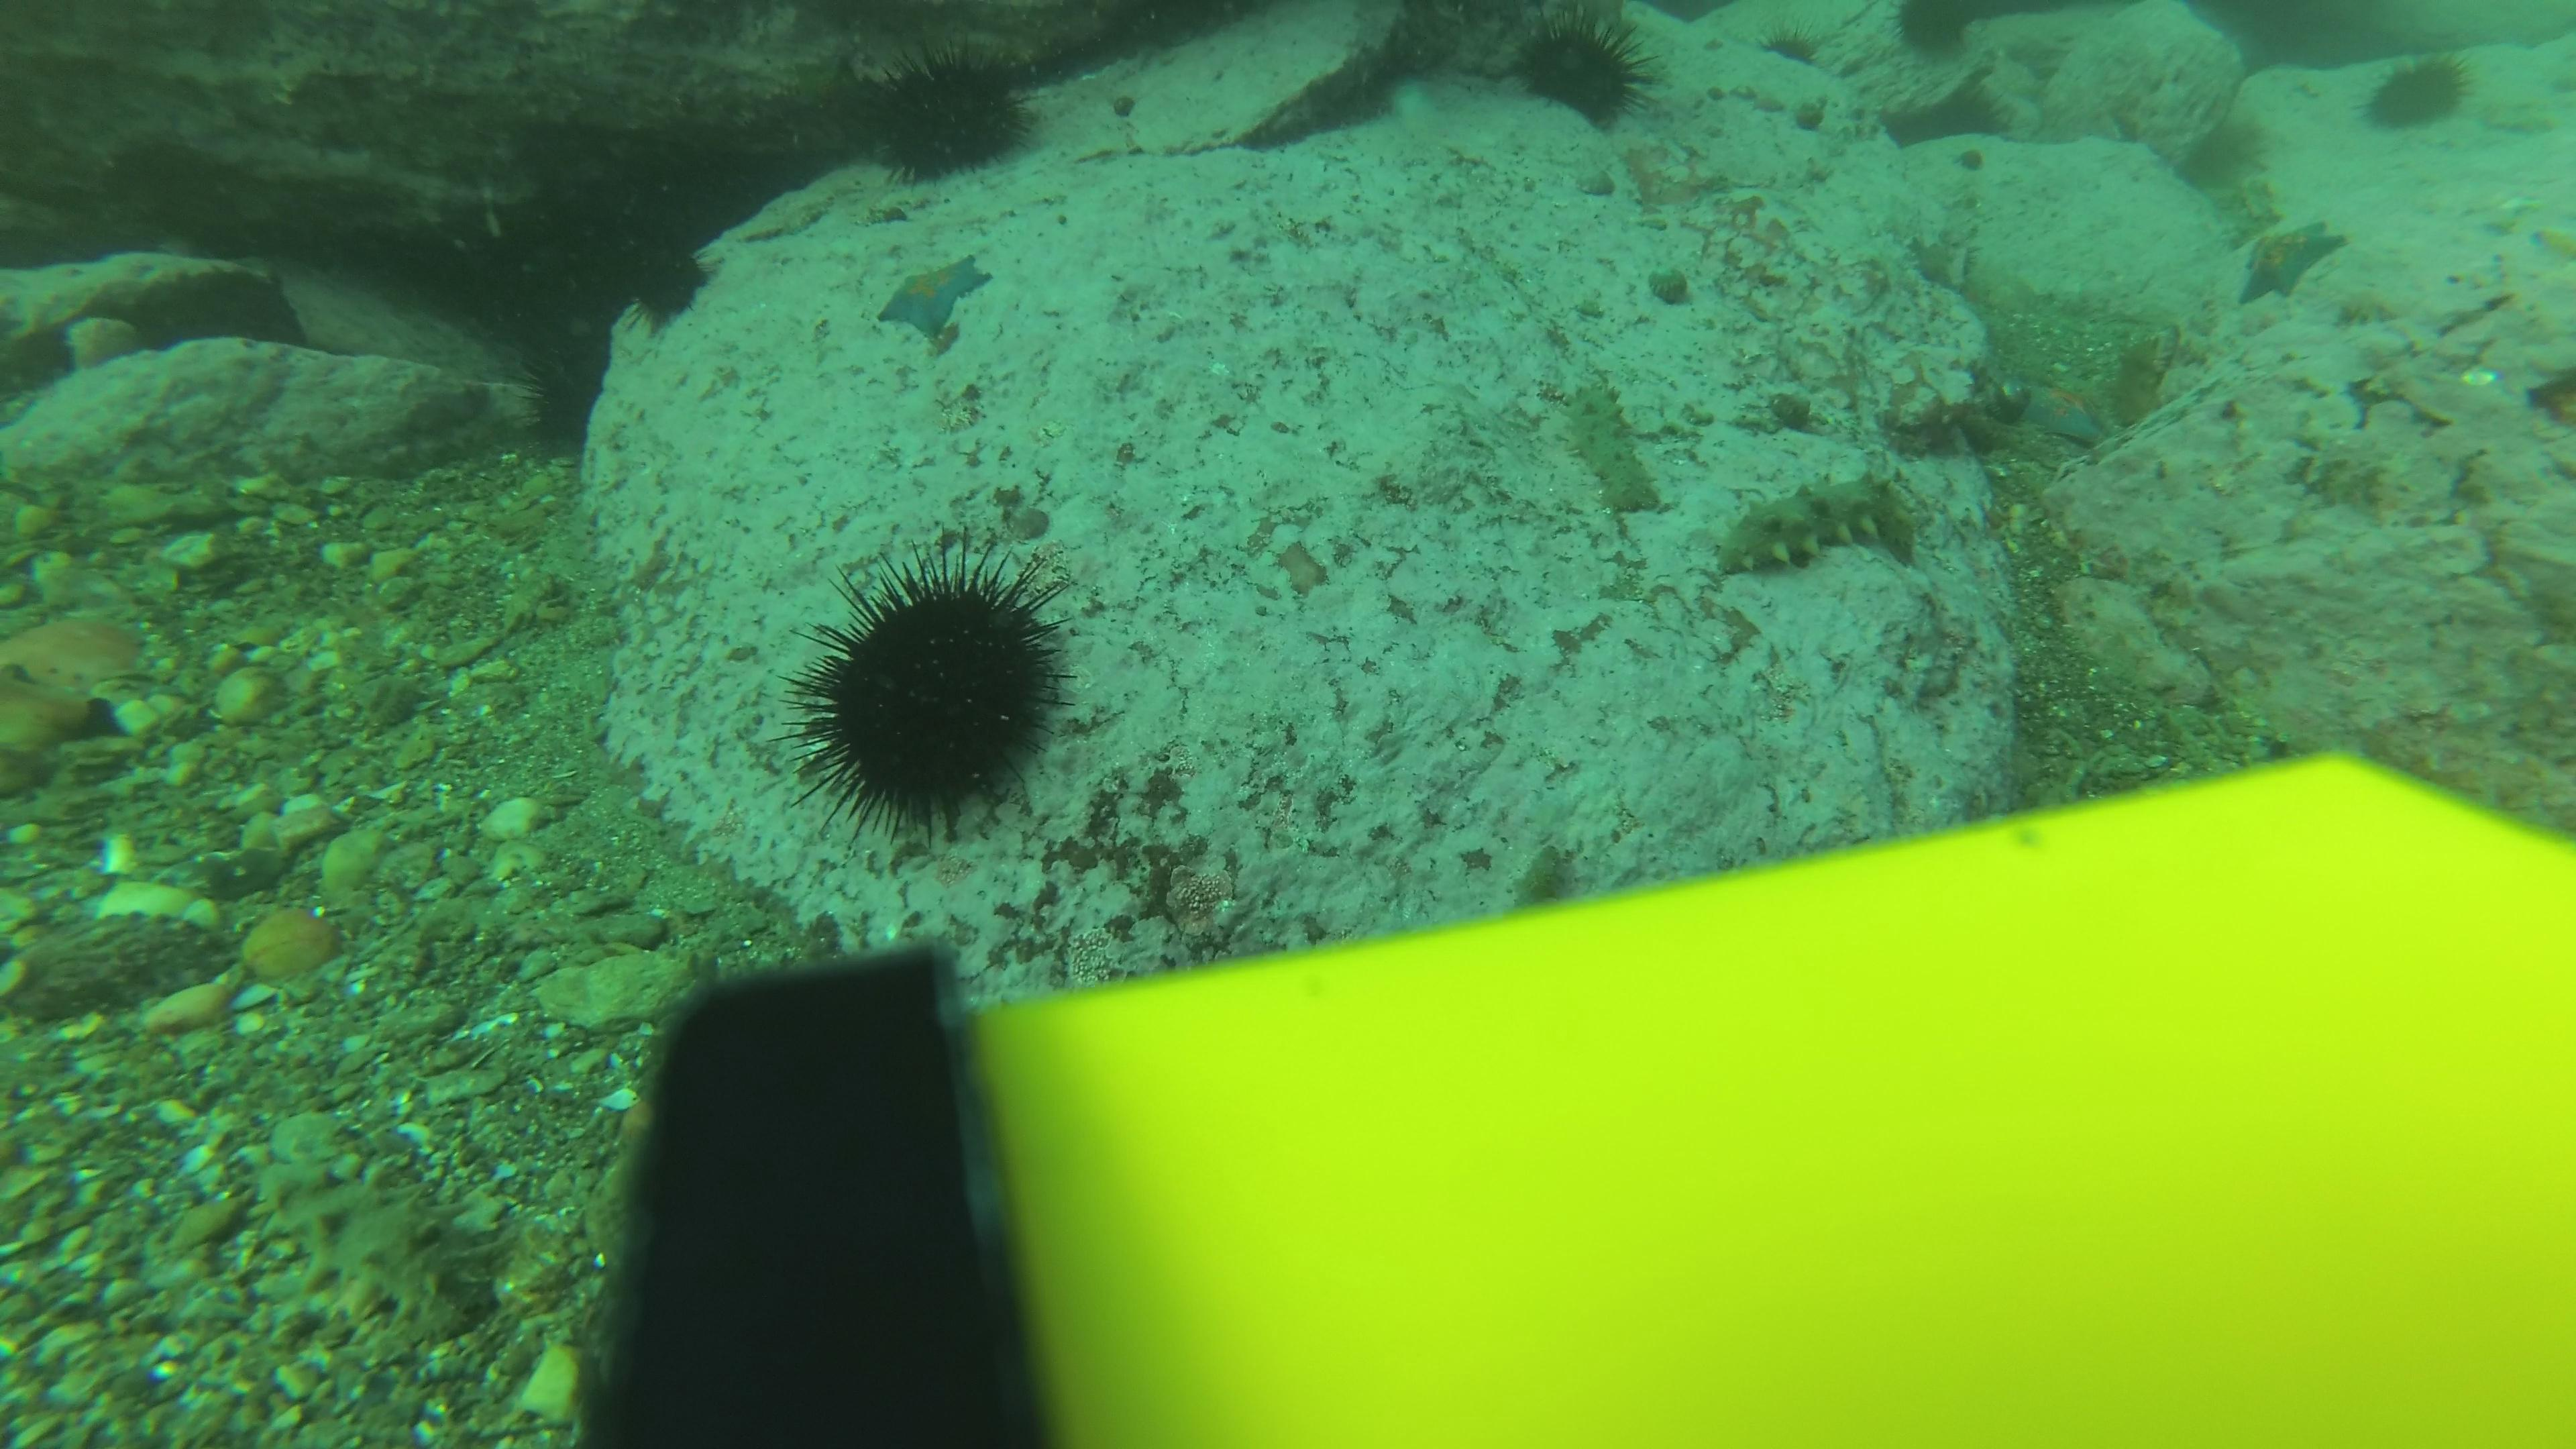urchin: (773, 570, 1132, 851), (860, 55, 1040, 179), (1497, 5, 1681, 126), (2346, 57, 2488, 138), (626, 241, 708, 322), (1888, 2, 1978, 62), (1762, 16, 1828, 80)
